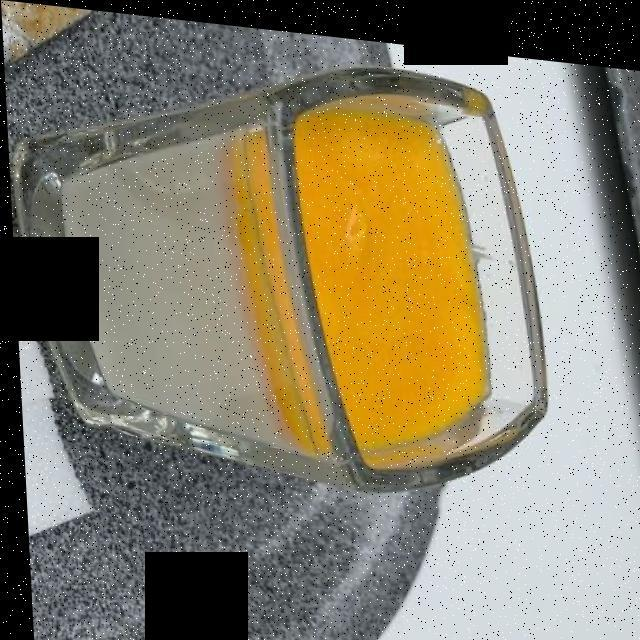drink: (55, 85, 489, 468)
